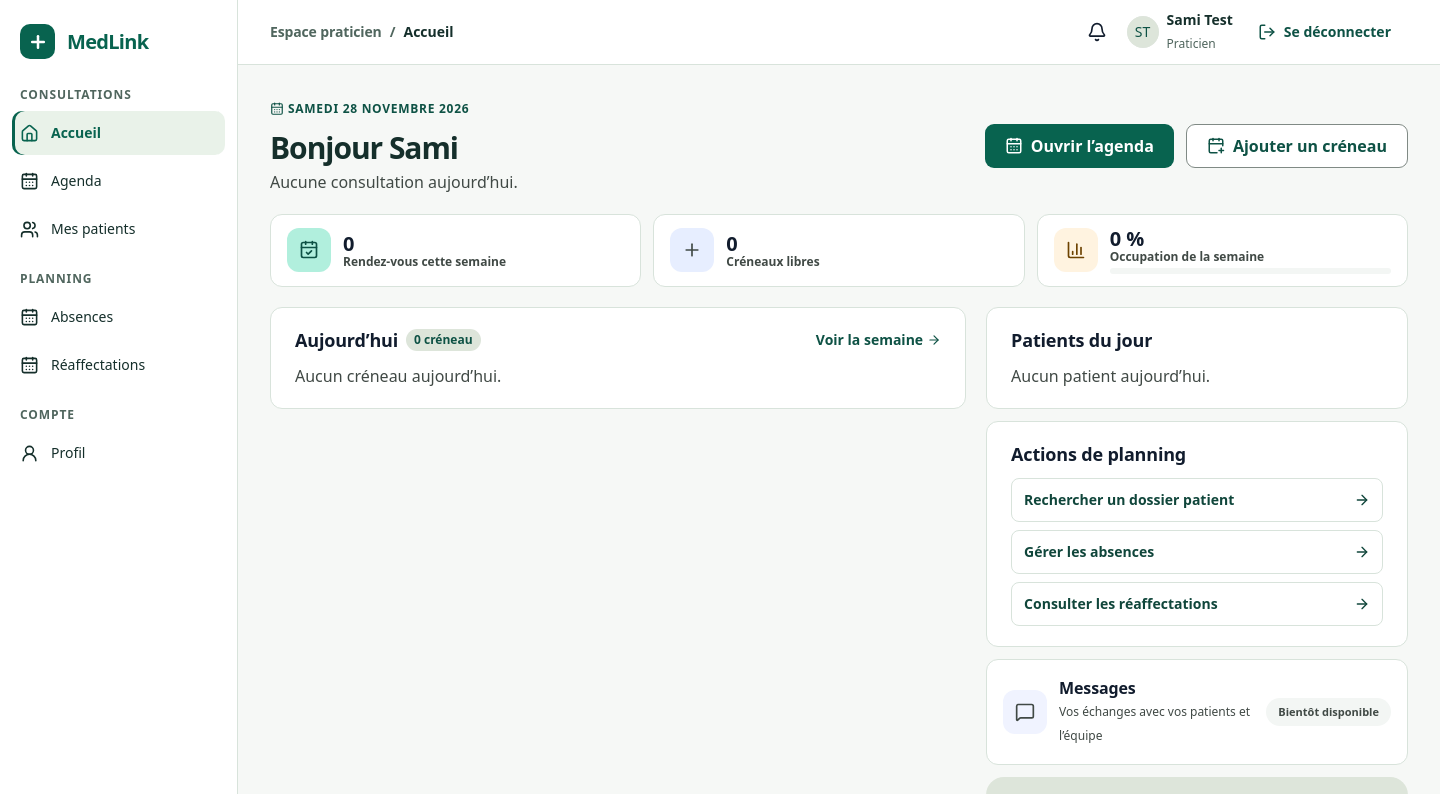
Test case: a practitioner opens the agenda from the menu of their space
Click the link "Agenda". click: (61, 180)
box: [20,170,102,190]
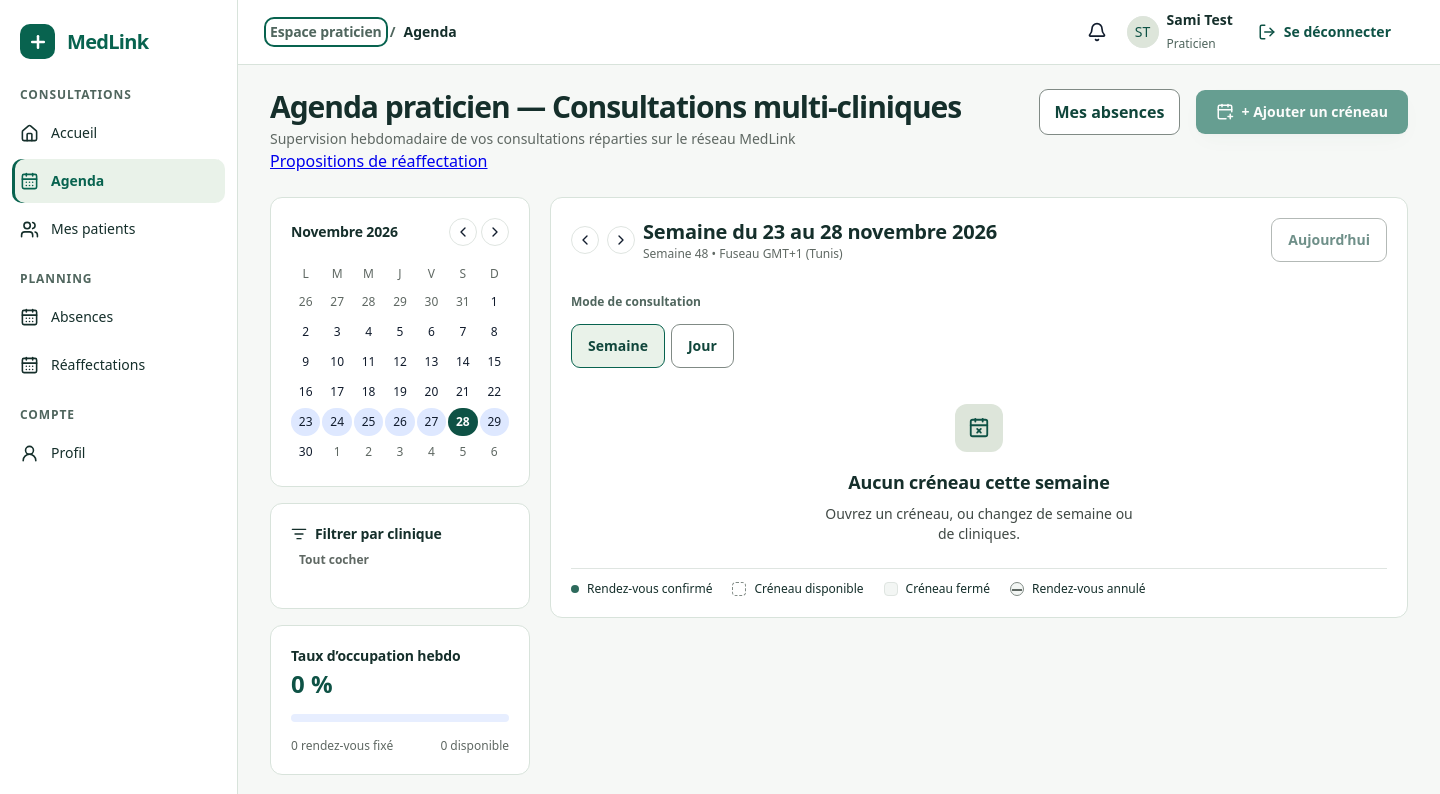
Expected: the heading "Agenda praticien — Consultations multi-cliniques" is shown, [270,89,961,125]
